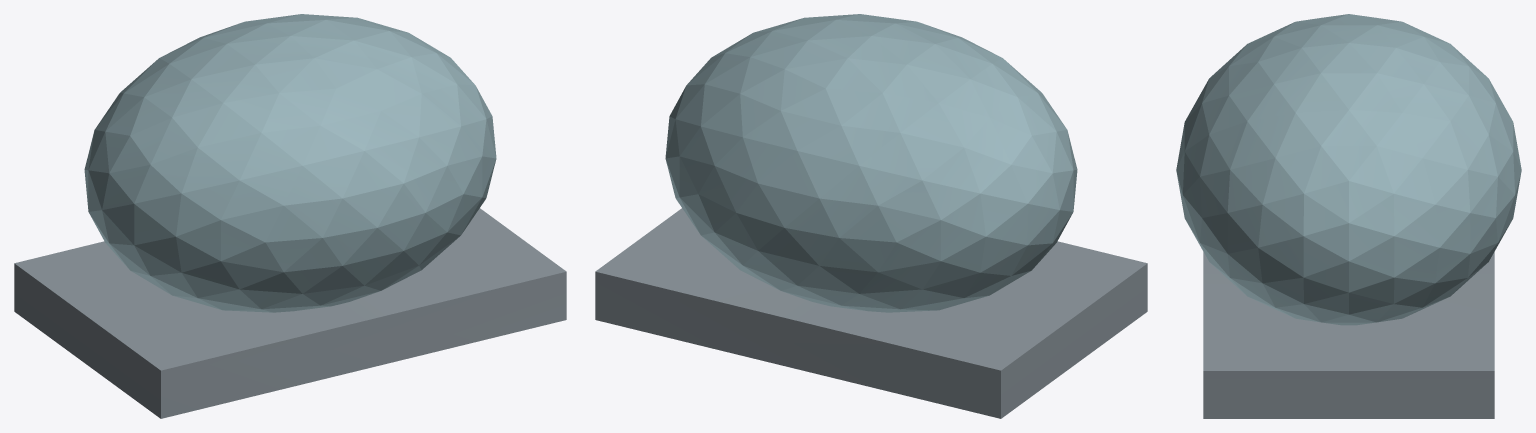
Rendered from greenhouse-08.glb.
3 views of the same model, side by side, from view 1: azimuth 30°, elevation 25°; view 2: azimuth 150°, elevation 25°; view 3: azimuth 270°, elevation 25° (orthographic).
Visible parts, largest first — view 1: world; view 2: world; view 3: world.
Part boxes in pixels (x1=…): world: x1=14, y1=14, x2=566, y2=418; world: x1=595, y1=14, x2=1147, y2=418; world: x1=1176, y1=14, x2=1521, y2=418.
Bounding box in the file's own units: 1.76 × 1.16 × 1.31.
